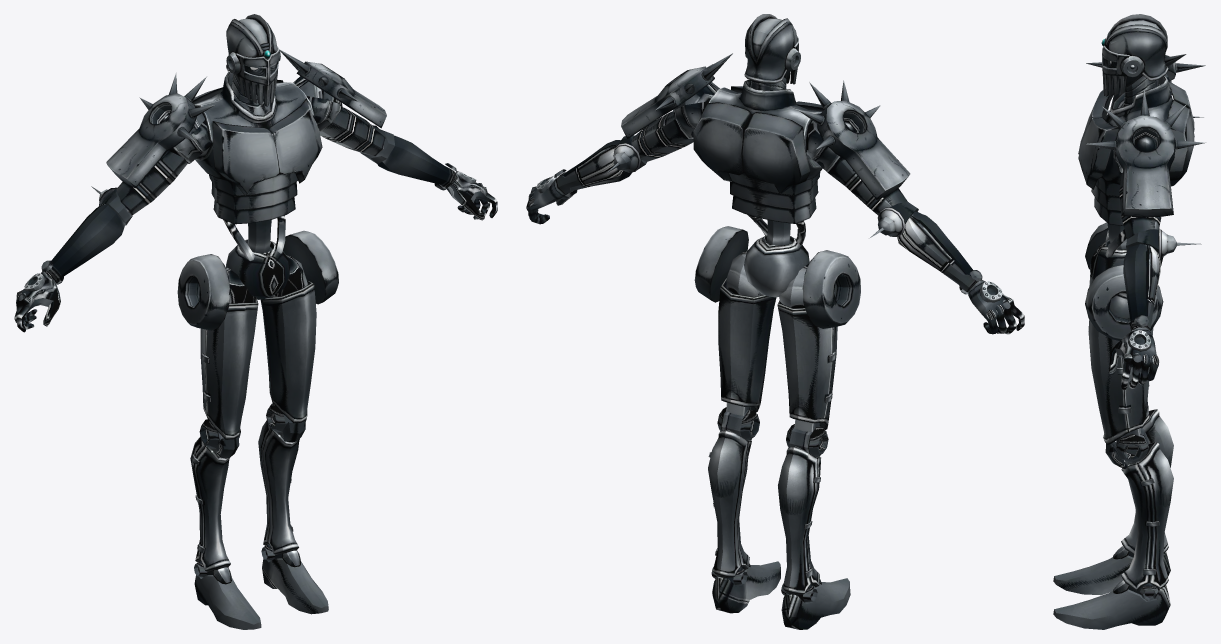
Rendered from silver-chariot.glb.
3 renders of one model, left to right at view 1: azimuth 30°, elevation 25°; view 2: azimuth 150°, elevation 25°; view 3: azimuth 270°, elevation 25°, orthographic. The views are drawn at different scales.
Visible parts, largest first — view 1: Object_2, Object_6; view 2: Object_2; view 3: Object_2, Object_6.
Part boxes in pixels (x1,y1,x2,y2): Object_2: [14, 14, 497, 629]; Object_6: [226, 46, 280, 106]; Object_2: [526, 14, 1024, 629]; Object_2: [1053, 14, 1205, 629]; Object_6: [1102, 45, 1144, 96].
Bounding box in the file's own units: 7.23 × 8.31 × 1.97.
Materials: 3 (2 with a texture image).
